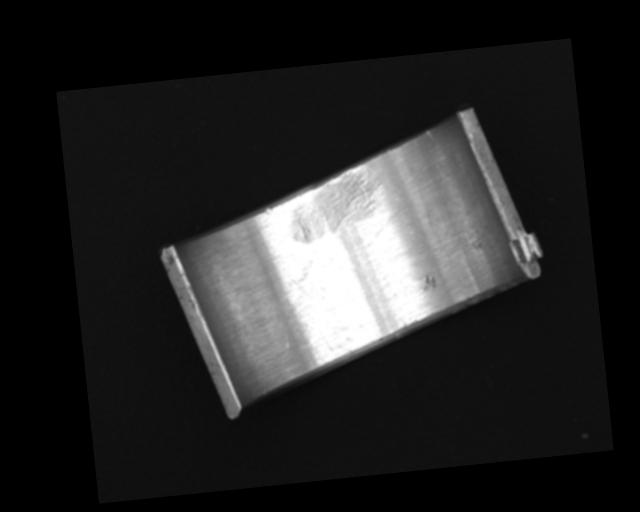blot: (280, 255, 328, 307)
bruise: (419, 273, 437, 292), (261, 206, 273, 215)
nick: (426, 128, 436, 141)
scratch: (285, 166, 389, 246)
